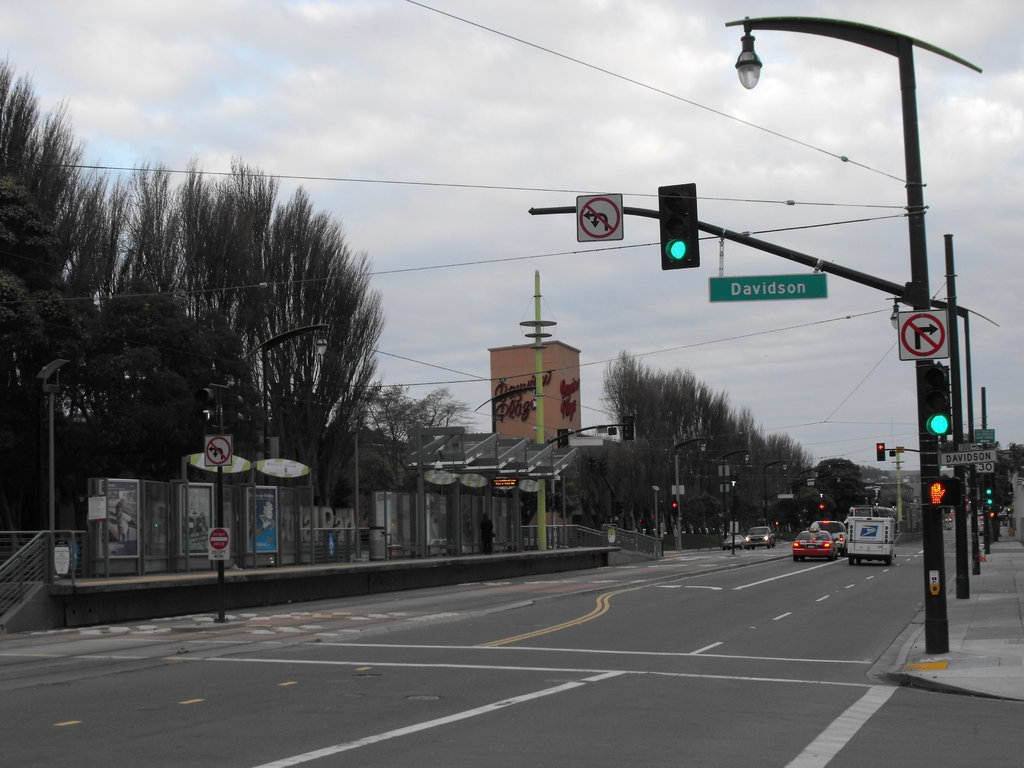green_light: (663, 186, 698, 267), (919, 366, 952, 434)
